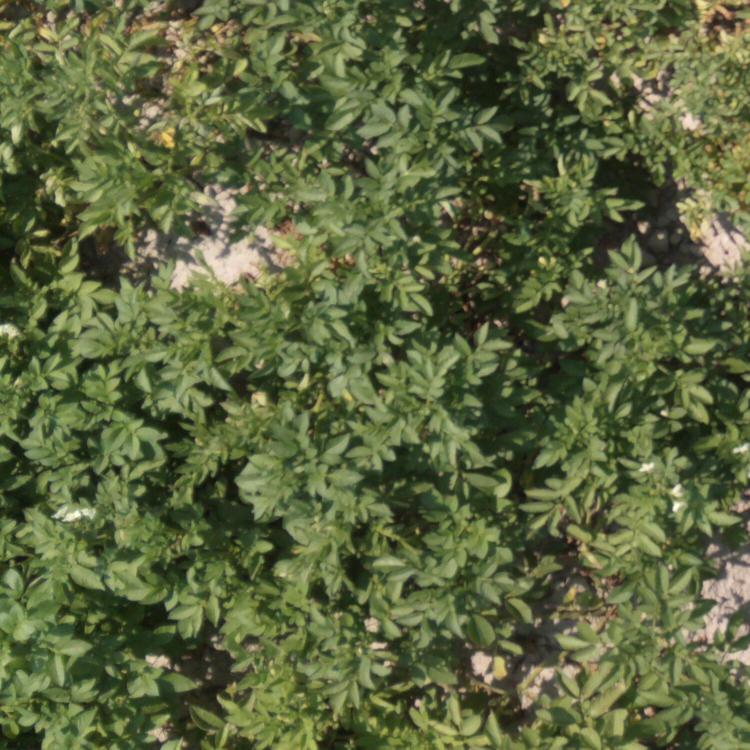healthy: (1, 263, 750, 740), (1, 1, 620, 258)
stressed: (626, 1, 743, 188)
